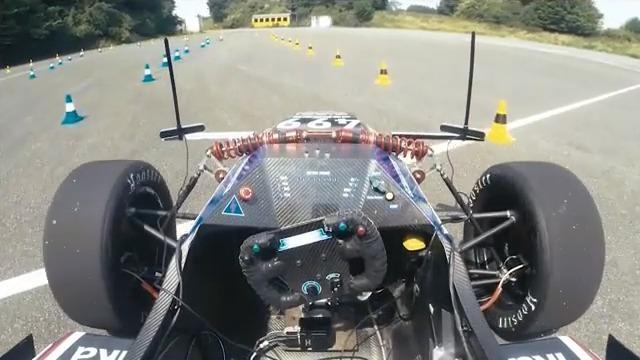blue_cone: (58, 90, 86, 123), (140, 63, 154, 84), (28, 67, 38, 81), (173, 47, 182, 61), (160, 53, 168, 68), (66, 54, 73, 65), (183, 45, 190, 55), (49, 61, 55, 71), (57, 58, 63, 68), (200, 41, 205, 50), (206, 38, 210, 46)
yellow_cone: (483, 96, 515, 146), (373, 60, 392, 86), (330, 49, 345, 68), (306, 41, 316, 56), (293, 38, 302, 50), (5, 64, 12, 77), (280, 34, 286, 47), (288, 37, 294, 49), (275, 34, 279, 42)
